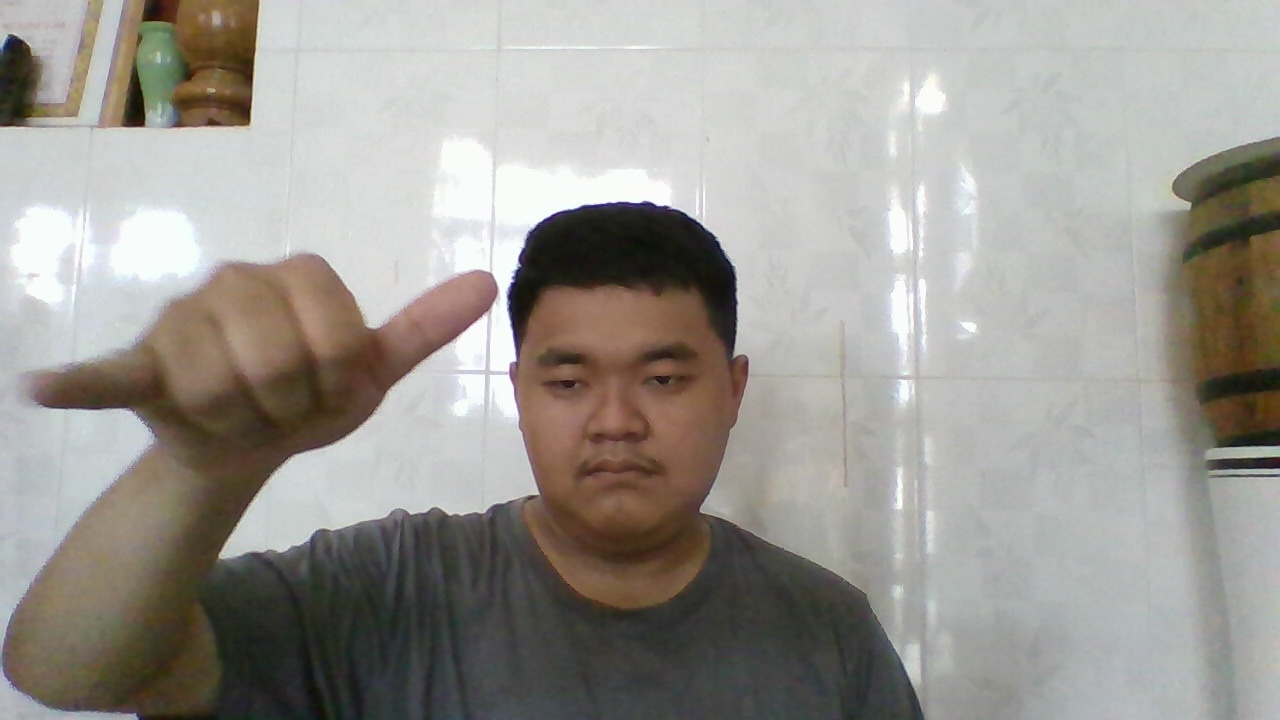Y: (18, 255, 495, 478)
